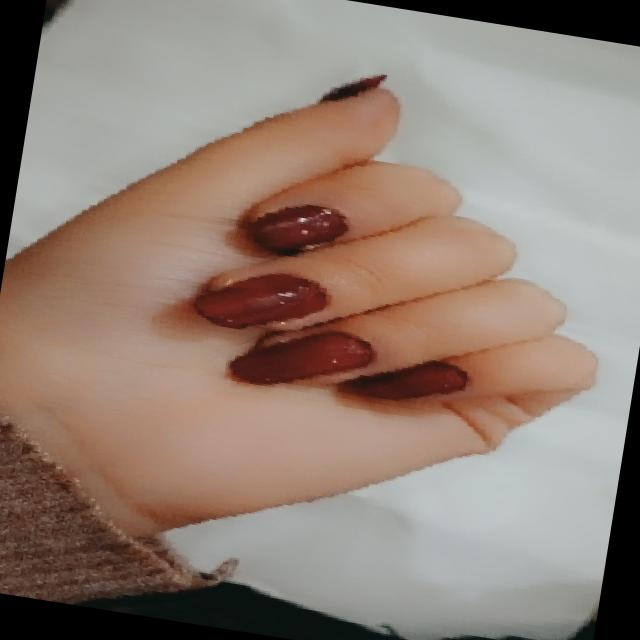Nail: (231, 333, 375, 386), (192, 272, 323, 327), (345, 361, 467, 400), (253, 204, 347, 253), (324, 77, 385, 101)
